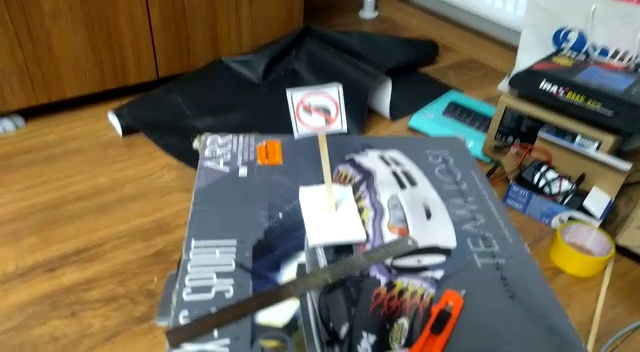sola_donulmez: (295, 86, 337, 140)
